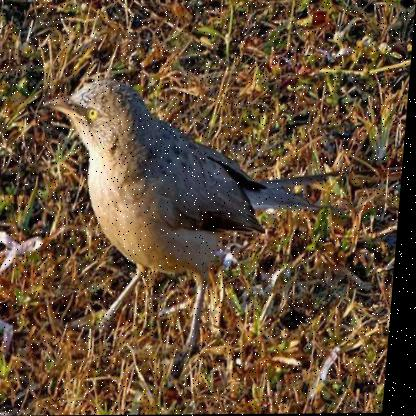Burung: (26, 78, 355, 383)
